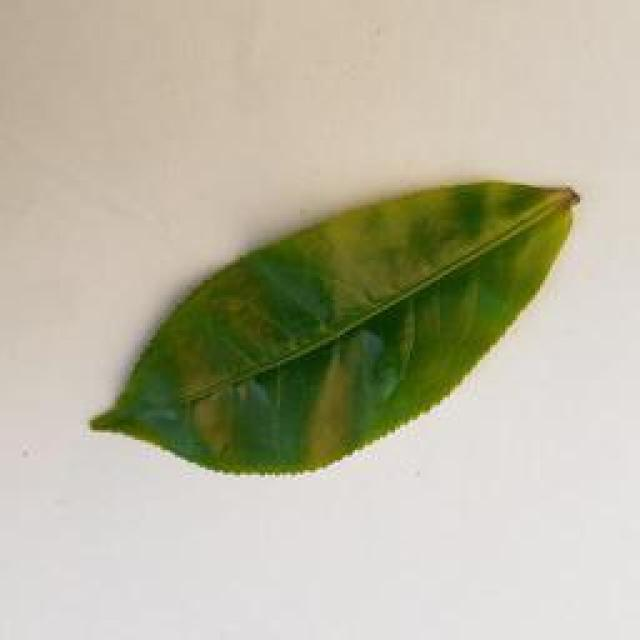Healthy: (88, 177, 580, 493)
